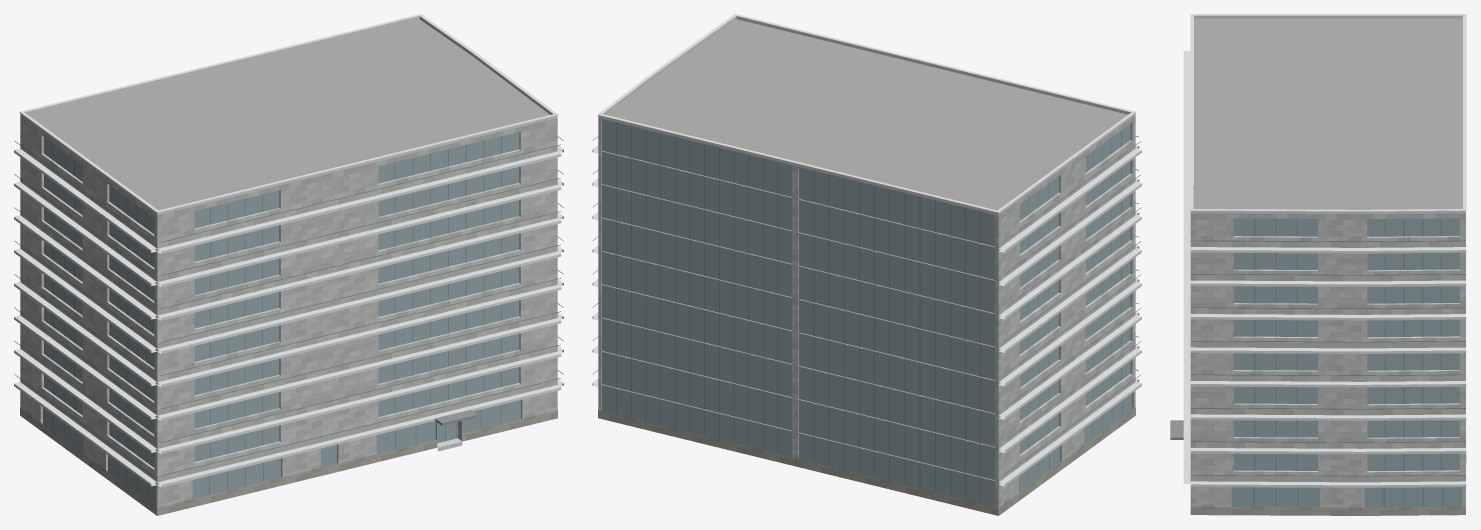
3 renders of one model, left to right at view 1: azimuth 30°, elevation 25°; view 2: azimuth 150°, elevation 25°; view 3: azimuth 270°, elevation 25°, orthographic.
Parts seen in each view (by area): view 1: b470144649__wall, b470144649__roof, b470144649__glass, b470144649__trim, b470144649__frame, b470144649__base, b470144649__parapet; view 2: b470144649__glass, b470144649__roof, b470144649__wall, b470144649__trim, b470144649__frame, b470144649__base, b470144649__spandrel, b470144649__parapet; view 3: b470144649__roof, b470144649__wall, b470144649__glass, b470144649__trim, b470144649__frame, b470144649__base, b470144649__parapet.
Boxes of the visible parts, x1,y1,x2,y2 form: b470144649__wall: [20, 115, 557, 515]; b470144649__roof: [28, 19, 549, 210]; b470144649__glass: [43, 132, 520, 506]; b470144649__trim: [14, 14, 563, 487]; b470144649__frame: [14, 136, 563, 500]; b470144649__base: [20, 407, 557, 515]; b470144649__parapet: [20, 16, 557, 215]; b470144649__glass: [602, 119, 1131, 506]; b470144649__roof: [606, 19, 1127, 210]; b470144649__wall: [598, 115, 1135, 515]; b470144649__trim: [592, 14, 1141, 486]; b470144649__frame: [592, 122, 1141, 503]; b470144649__base: [598, 407, 1135, 515]; b470144649__spandrel: [601, 151, 995, 481]; b470144649__parapet: [598, 16, 1135, 215]; b470144649__roof: [1193, 18, 1462, 515]; b470144649__wall: [1190, 213, 1465, 507]; b470144649__glass: [1231, 218, 1462, 507]; b470144649__trim: [1183, 14, 1466, 487]; b470144649__frame: [1184, 58, 1465, 507]; b470144649__base: [1190, 455, 1466, 515]; b470144649__parapet: [1190, 15, 1465, 214].
Bounding box in the file's own units: 46.81 × 33.15 × 28.89.
11 materials, 2 textured.
